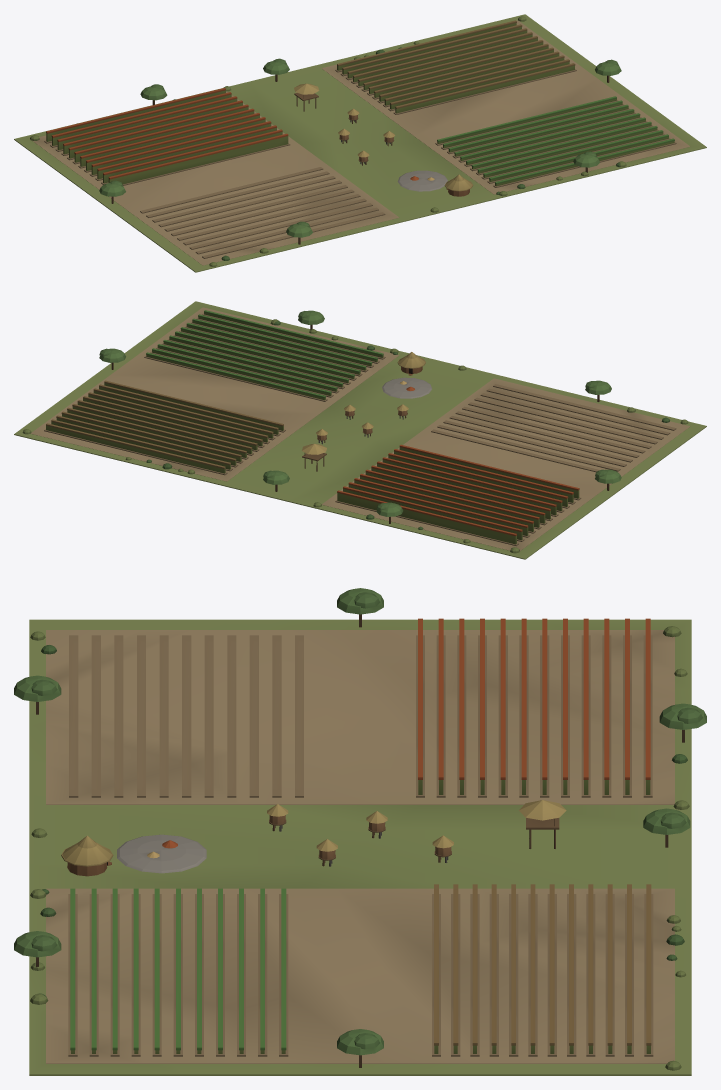
Rendered from fields-granaries.glb.
3 renders of one model, top to bottom at view 1: azimuth 30°, elevation 25°; view 2: azimuth 150°, elevation 25°; view 3: azimuth 270°, elevation 25°, orthographic. The views are drawn at different scales.
Visible parts, largest first — view 1: p0_ground, p1_fields, p2_granaries; view 2: p0_ground, p1_fields, p2_granaries; view 3: p0_ground, p1_fields, p2_granaries.
Boxes of the visible parts, box(x1,y1,x2,y2) form: p0_ground: box(14, 14, 706, 272); p1_fields: box(44, 20, 676, 258); p2_granaries: box(30, 16, 626, 266); p0_ground: box(14, 301, 706, 559); p1_fields: box(44, 310, 676, 545); p2_granaries: box(22, 310, 688, 553); p0_ground: box(29, 619, 691, 1075); p1_fields: box(68, 618, 653, 1056); p2_granaries: box(14, 588, 706, 1070).
Bounding box in the file's own units: 132 × 6 × 83.71.
